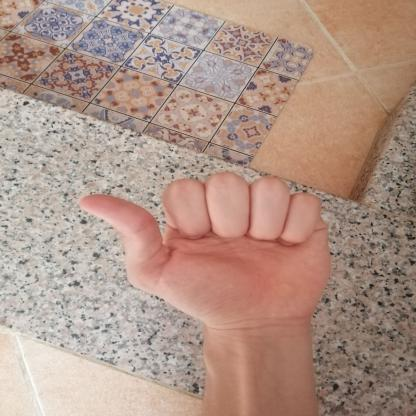DAD: (63, 162, 352, 339)
